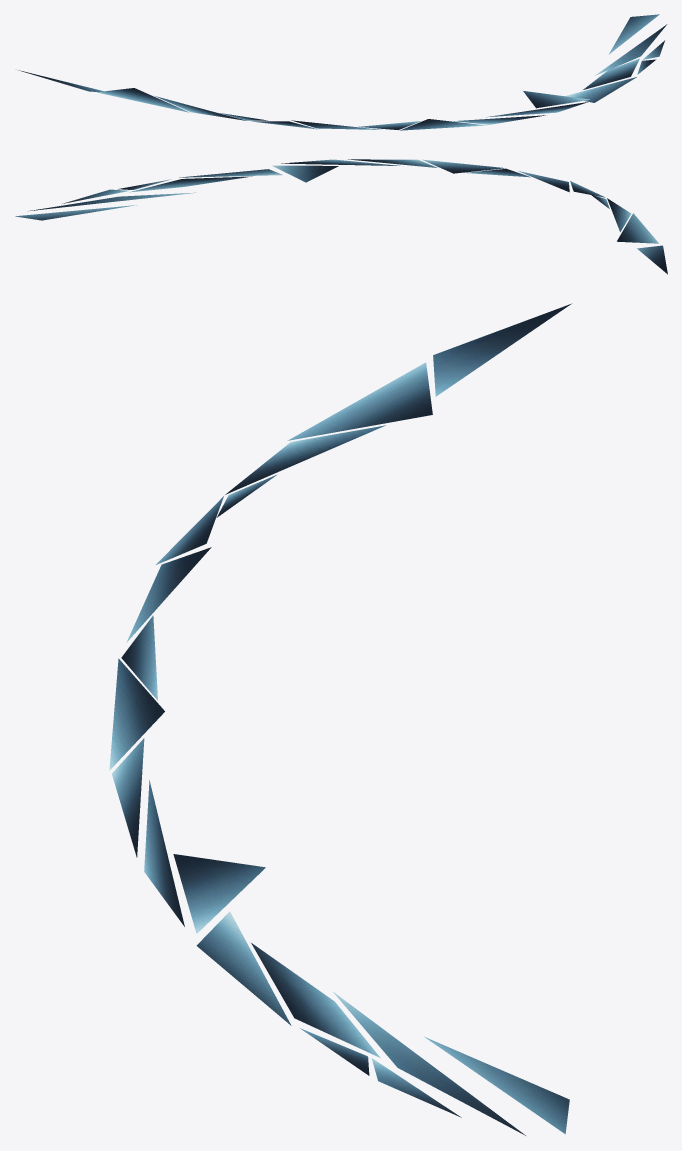
File: fashi_daoling.FBX
3 renders of one model, top to bottom at view 1: azimuth 30°, elevation 25°; view 2: azimuth 150°, elevation 25°; view 3: azimuth 270°, elevation 25°, orthographic. The views are drawn at different scales.
Visible parts, largest first — view 1: jinggeti; view 2: jinggeti; view 3: jinggeti.
Part boxes in pixels (<box>): jinggeti: <box>18,14,667,130</box>; jinggeti: <box>15,159,667,274</box>; jinggeti: <box>109,303,571,1135</box>.
Bounding box in the file's own units: 130 × 19.95 × 40.62.
1 material, 1 textured.
